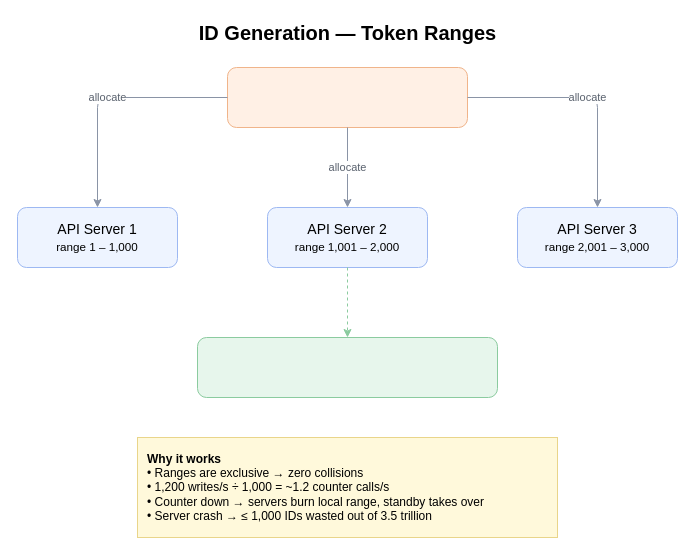
This 695x555 diagram has some shape labels left out. The shapes that lost their labels are listed below. From the top down, each one's box as (x1, y1, x2, y2) in pixels, then its label:
(226, 66, 468, 128): Counter Service single source of truth · active + standby
(196, 336, 498, 398): local counter++ → Base62 ID 3,521,614,606,207 → "zzzzzzz" (max 7-char)
